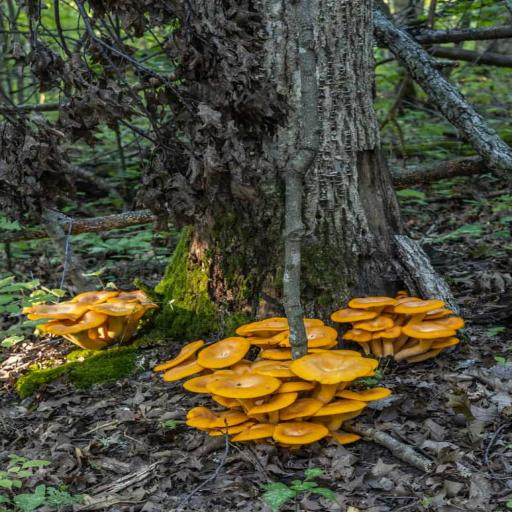Jack O Lantern Mushroom: (149, 307, 397, 465), (329, 287, 466, 368), (20, 284, 161, 357)
